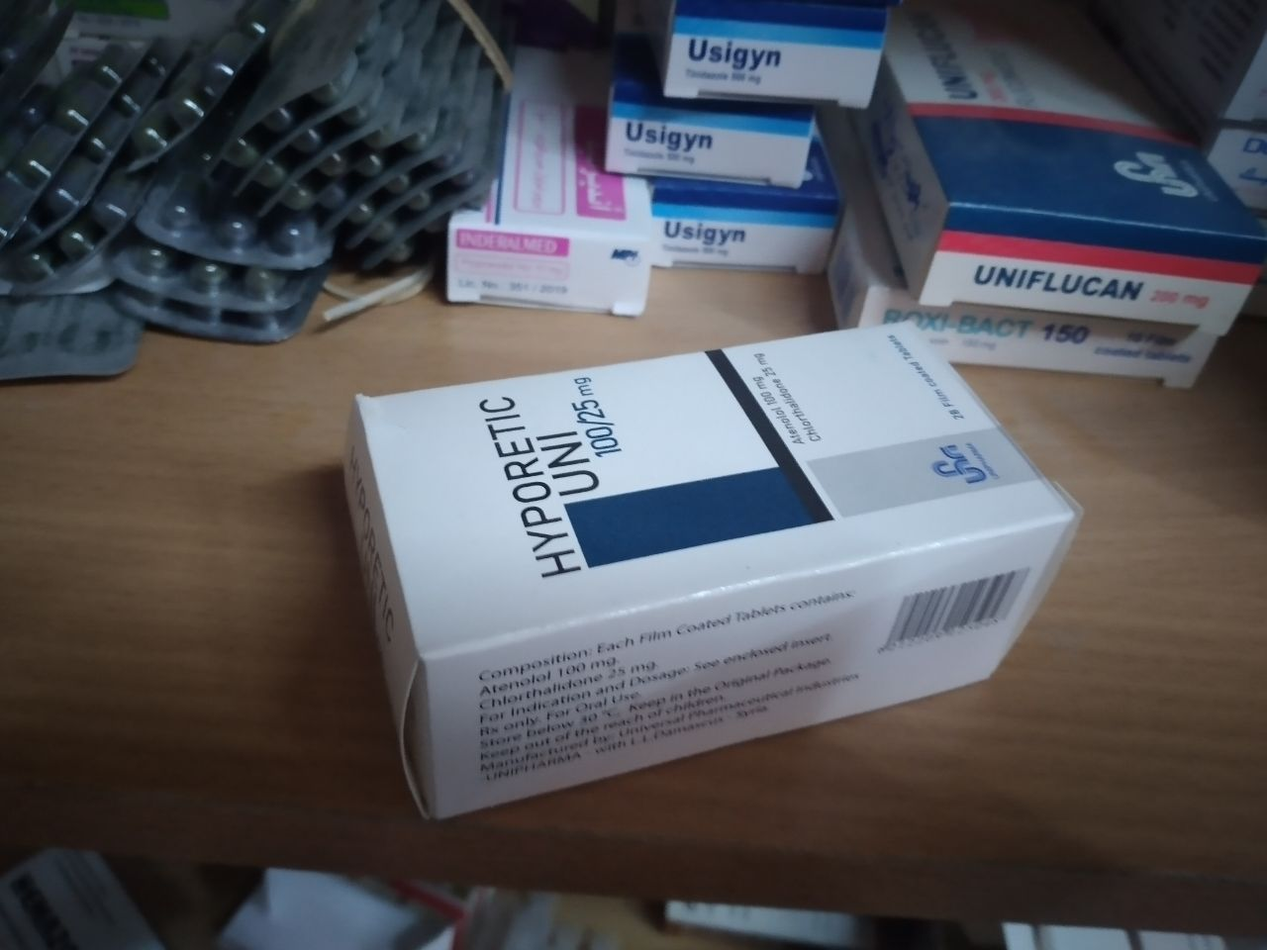Medicine: (341, 302, 1104, 829), (856, 2, 1267, 344), (436, 2, 661, 324), (594, 0, 822, 205), (658, 0, 891, 124), (648, 168, 846, 297)
